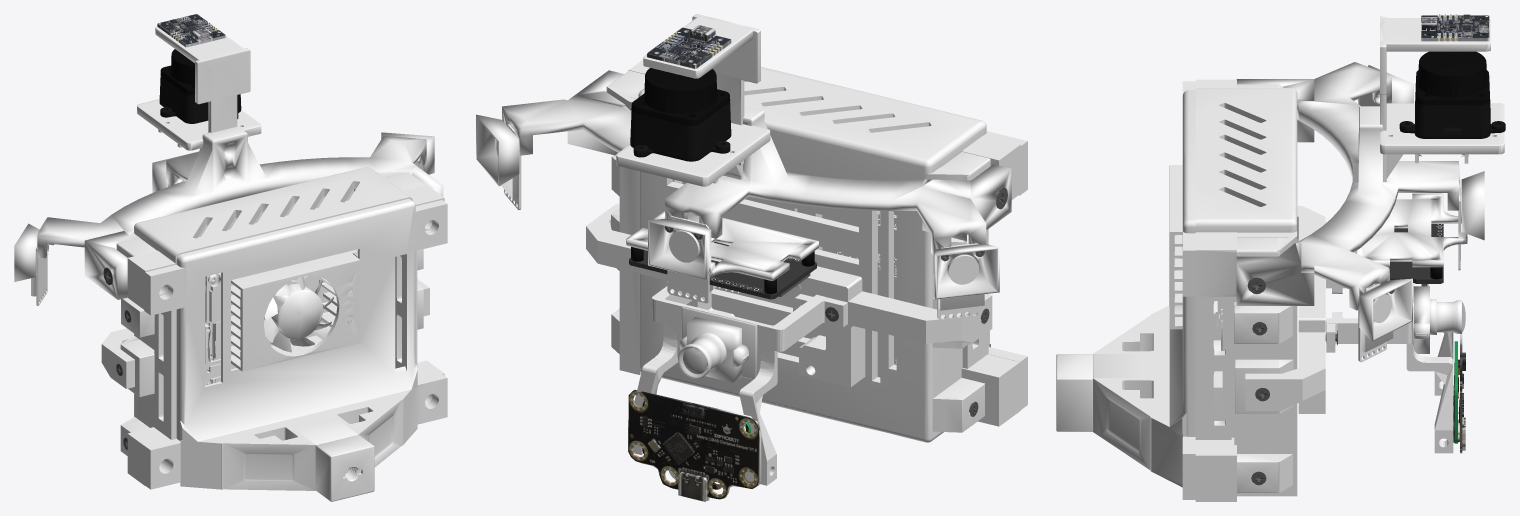
File: module-v5.glb
3 renders of one model, left to right at view 1: azimuth 30°, elevation 25°; view 2: azimuth 150°, elevation 25°; view 3: azimuth 270°, elevation 25°, orthographic. The views are drawn at different scales.
Visible parts, largest first — view 1: shell-rear, housing-rear, chassis-upper, jetson, mount-top, lidar-ld19, chassis-lower, imu, mic-c; view 2: housing-rear, chassis-upper, chassis-lower, tof-8x8, mount-top, lidar-ld19, camera-ar0234, imu, pcb-core, shell-rear, mic-b, jetson (+1 smaller); view 3: housing-rear, chassis-upper, shell-rear, chassis-lower, lidar-ld19, mount-top, jetson, camera-ar0234, imu, pcb-core, mic-a, mount-detail (+1 smaller).
Part boxes in pixels (x1,y1,x2,y2): shell-rear: [144, 199, 447, 501]; housing-rear: [116, 167, 444, 485]; chassis-upper: [14, 126, 443, 299]; jetson: [197, 200, 360, 385]; mount-top: [137, 26, 261, 150]; lidar-ld19: [159, 49, 241, 123]; chassis-lower: [101, 279, 429, 388]; imu: [157, 14, 225, 47]; mic-c: [36, 247, 47, 305]; housing-rear: [606, 60, 1020, 442]; chassis-upper: [476, 70, 1011, 310]; chassis-lower: [586, 203, 992, 485]; tof-8x8: [628, 389, 761, 501]; mount-top: [616, 14, 770, 186]; lidar-ld19: [630, 68, 731, 161]; camera-ar0234: [678, 306, 757, 382]; imu: [647, 25, 731, 68]; pcb-core: [629, 242, 816, 299]; shell-rear: [761, 66, 1027, 410]; mic-b: [667, 216, 709, 303]; jetson: [672, 179, 896, 377]; housing-rear: [1195, 79, 1297, 501]; chassis-upper: [1236, 62, 1484, 352]; shell-rear: [1056, 81, 1197, 499]; chassis-lower: [1245, 206, 1453, 453]; lidar-ld19: [1399, 51, 1505, 138]; mount-top: [1380, 16, 1504, 181]; jetson: [1169, 165, 1225, 420]; camera-ar0234: [1412, 283, 1465, 353]; imu: [1421, 14, 1489, 41]; pcb-core: [1389, 224, 1443, 286]; mic-a: [1358, 283, 1391, 362]; mount-detail: [1453, 341, 1459, 443].
Size of the model in its own units: 2.41 by 2 by 1.9.
24 materials, 3 textured.
